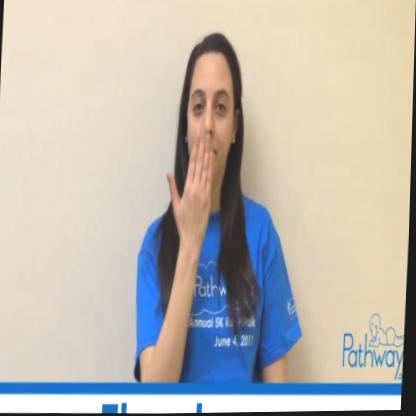ThankYou: (145, 12, 270, 308)
